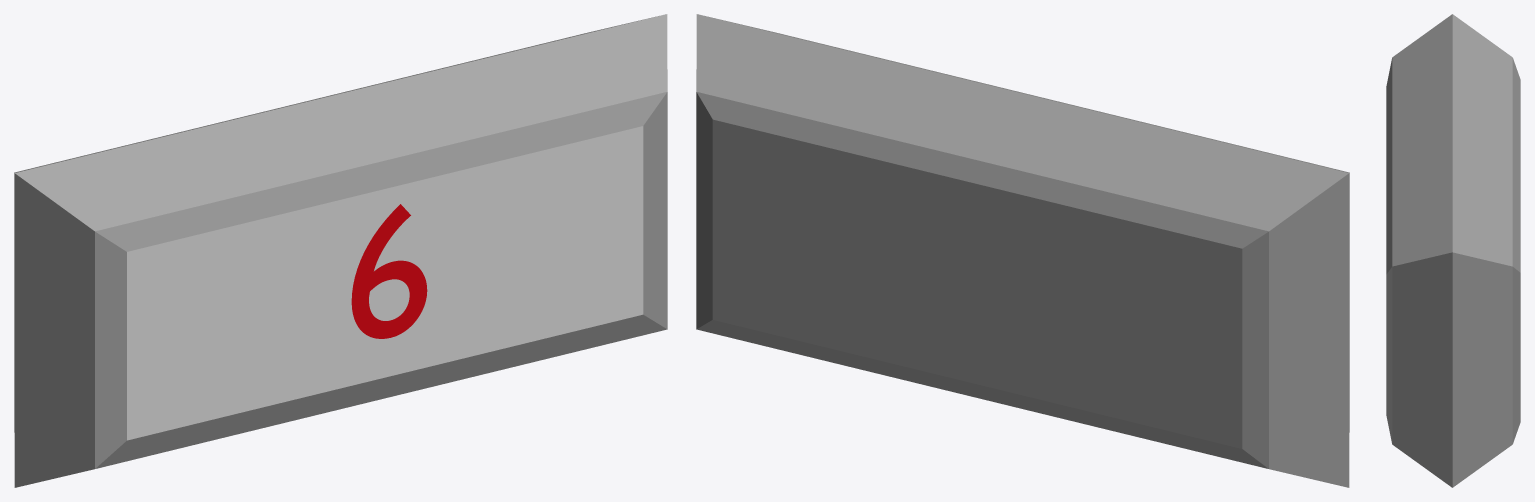
Rendered from number6.fbx.
The picture shows the model from 3 angles, left to right: view 1: azimuth 30°, elevation 25°; view 2: azimuth 150°, elevation 25°; view 3: azimuth 270°, elevation 25°; orthographic projection. The views are drawn at different scales.
Parts seen in each view (by area): view 1: Cube, Text; view 2: Cube; view 3: Cube.
Boxes of the visible parts, x1,y1,x2,y2 form: Cube: [14, 14, 667, 487]; Text: [351, 204, 427, 338]; Cube: [696, 14, 1349, 487]; Cube: [1386, 14, 1520, 487].
Size of the model in its own units: 1735 by 800 by 437.
